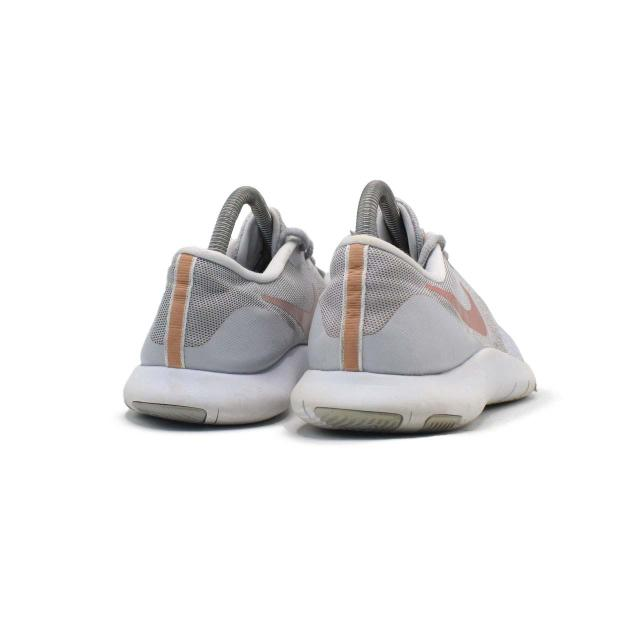heel: (304, 235, 448, 373), (142, 241, 284, 372)
midsole: (292, 348, 532, 430), (121, 349, 305, 423)
